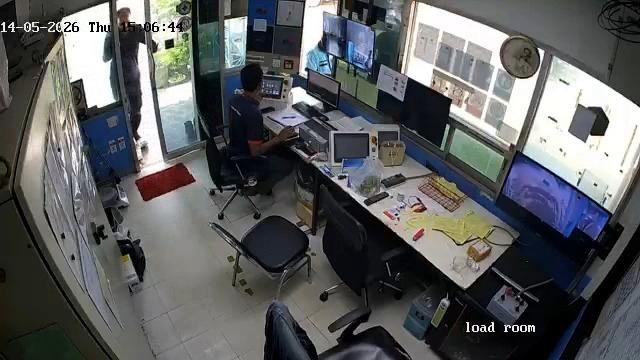Head: (237, 63, 265, 94), (117, 8, 132, 26)
People: (221, 63, 295, 192), (115, 8, 159, 148)
Phone: (260, 106, 276, 115)
